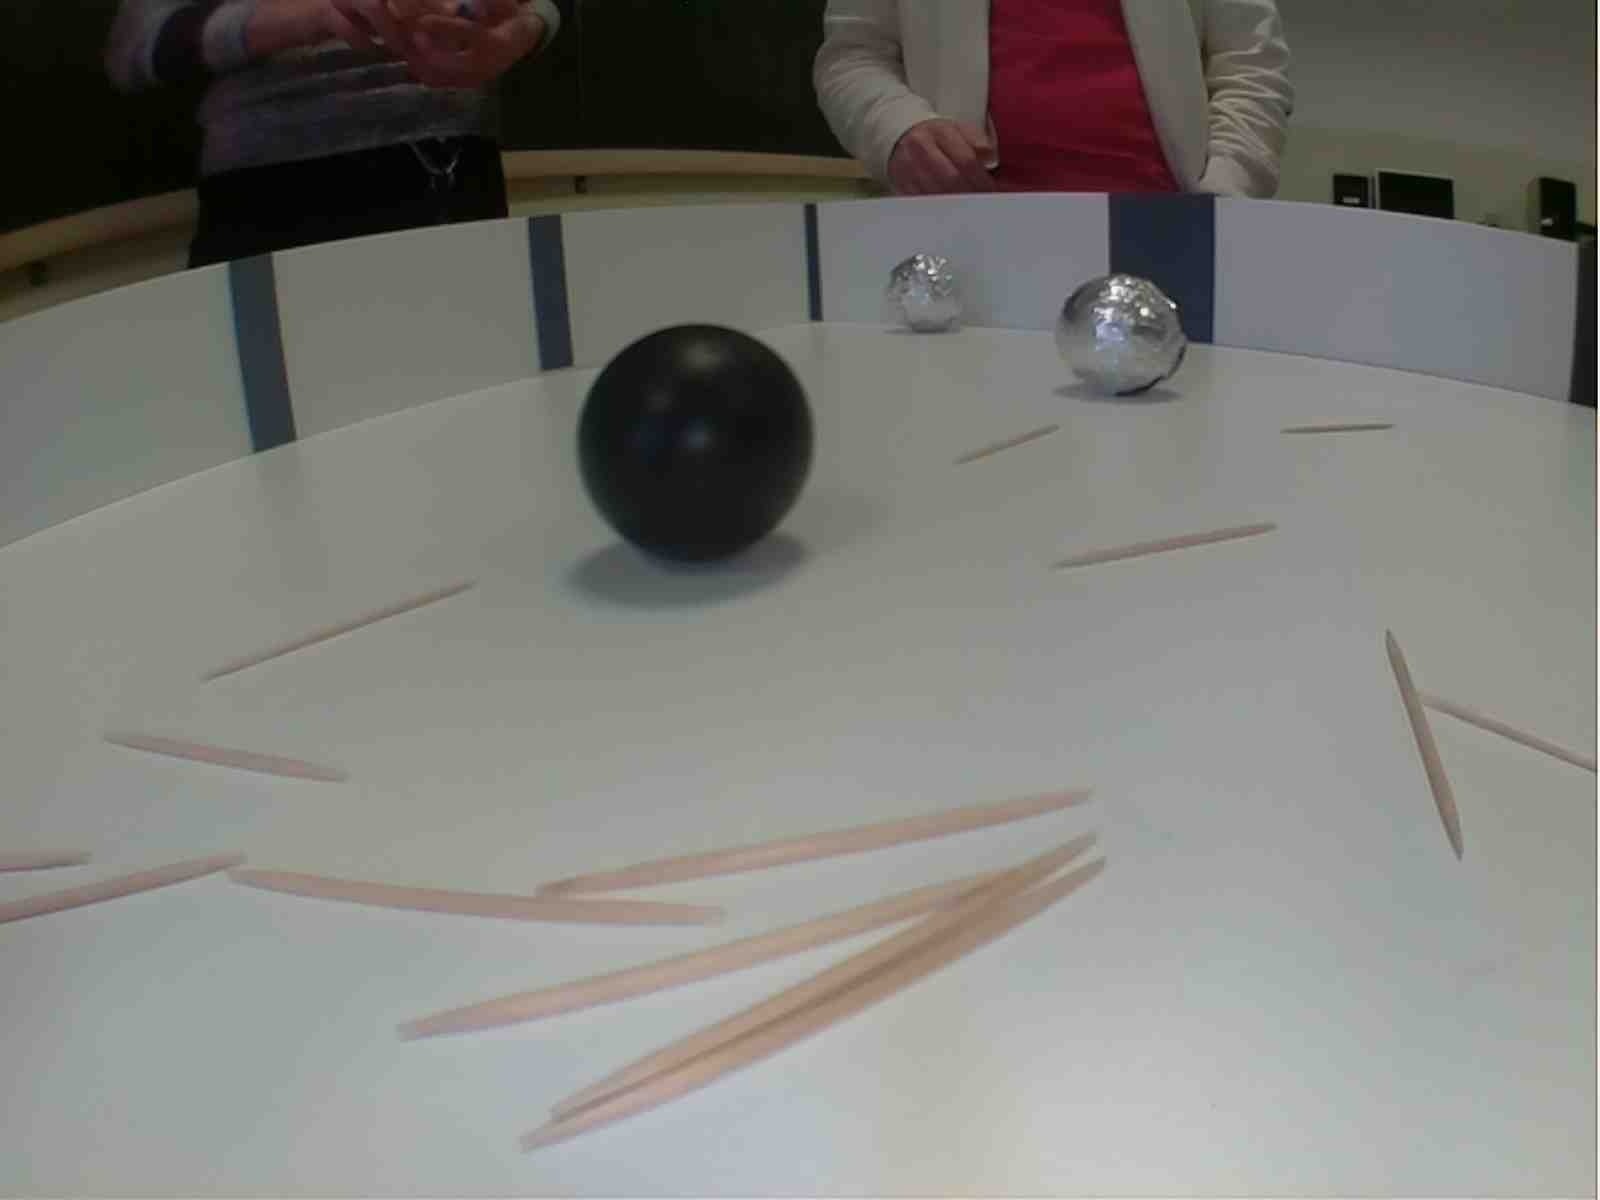bianca: (1054, 271, 1196, 405), (883, 250, 968, 337)
nera: (581, 321, 819, 574)
